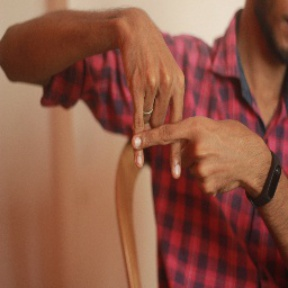H: (107, 73, 225, 181)
